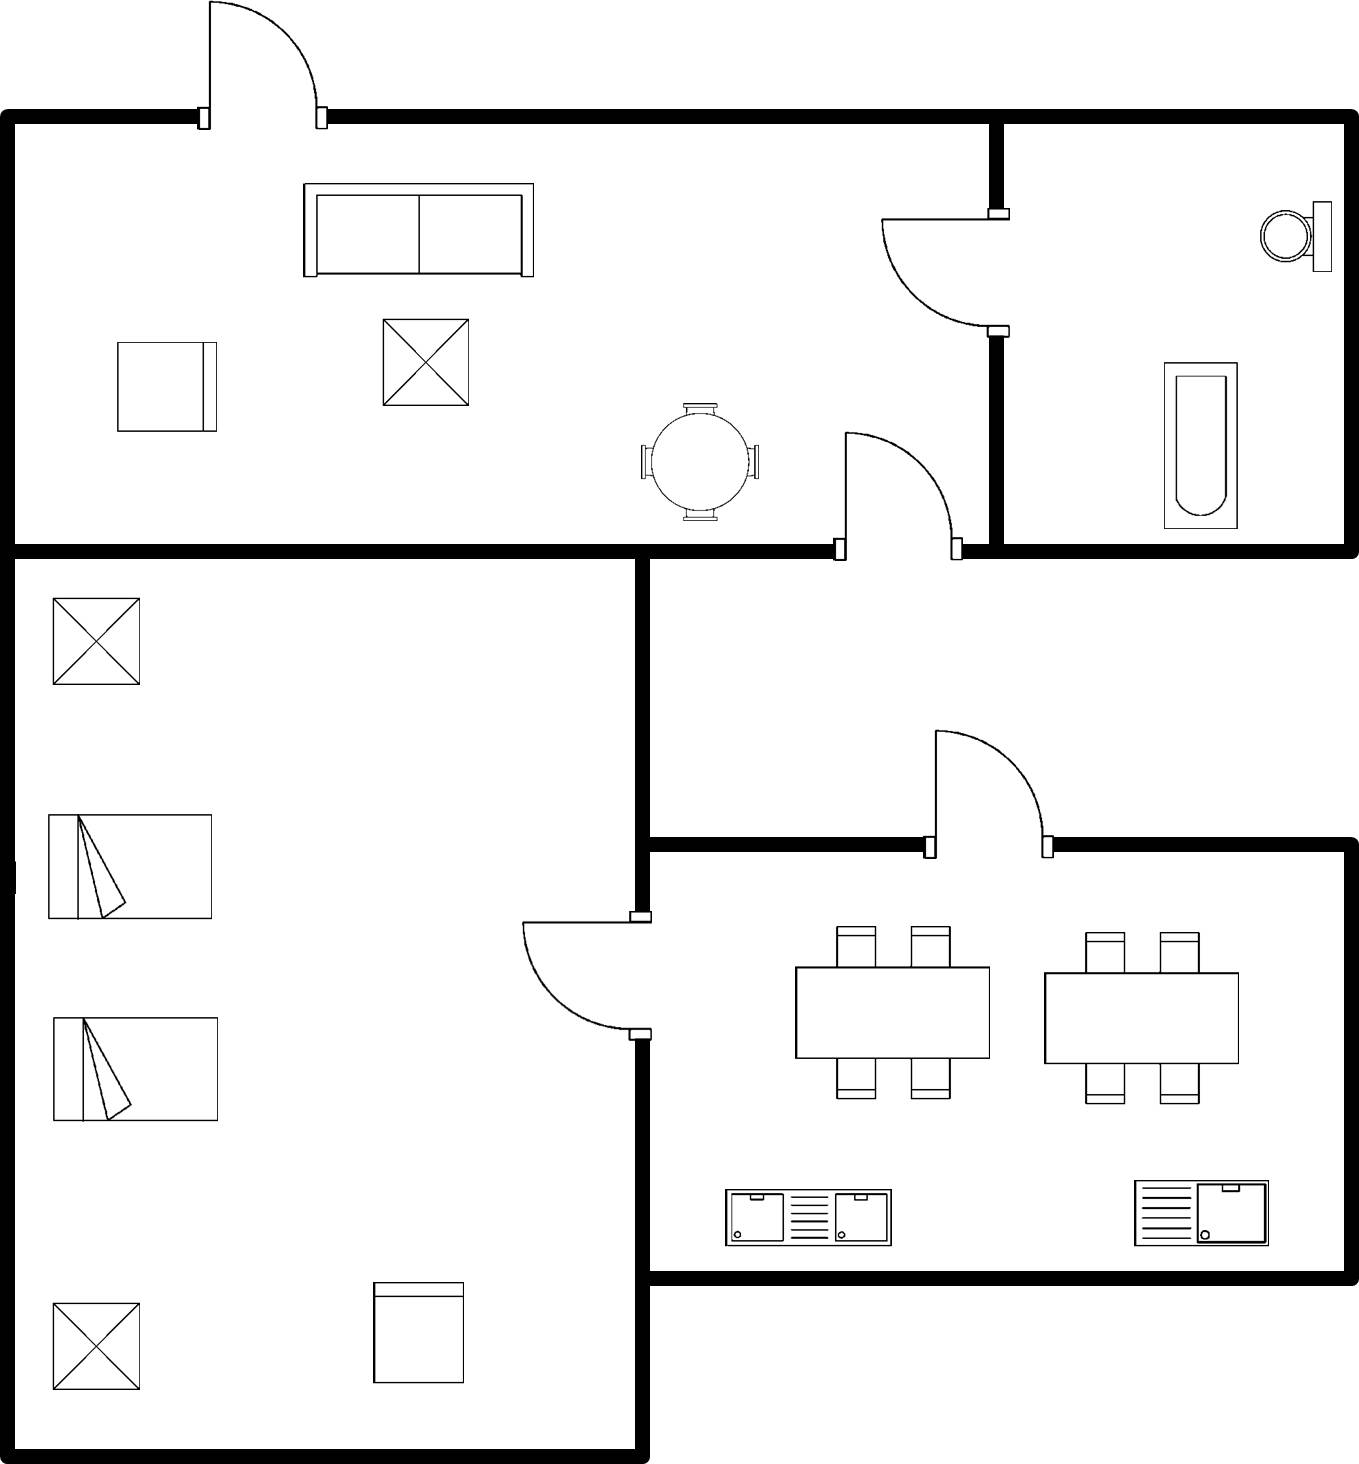bed: (34, 805, 229, 935), (41, 1005, 231, 1133)
coffee_table: (37, 1285, 153, 1401), (371, 307, 481, 414), (44, 585, 151, 694)
dining_table: (1029, 918, 1246, 1113), (787, 915, 999, 1108)
large_sink: (1251, 188, 1337, 283)
large_sofa: (289, 173, 549, 287)
round_table: (630, 390, 770, 530)
sink: (1121, 1168, 1277, 1260)
small_sofa: (364, 1268, 474, 1397), (103, 334, 227, 441)
tub: (1149, 353, 1247, 538)
twin_sink: (711, 1174, 897, 1255)
